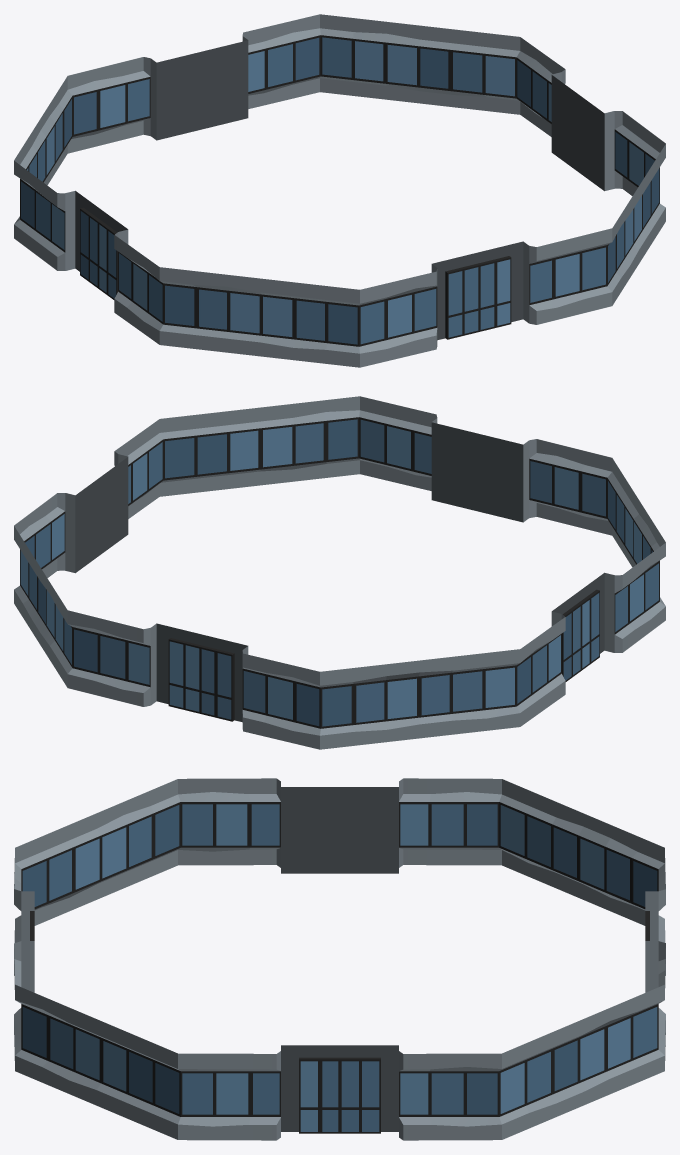
File: Large_Office_Octafon_Andar.glb
3 views of the same model, one above another, from view 1: azimuth 30°, elevation 25°; view 2: azimuth 150°, elevation 25°; view 3: azimuth 270°, elevation 25° (orthographic). The views are drawn at different scales.
Parts seen in each view (by area): view 1: SM_Bld_OfficeOctagon_Floor_01; view 2: SM_Bld_OfficeOctagon_Floor_01; view 3: SM_Bld_OfficeOctagon_Floor_01.
Part boxes in pixels (<box>): SM_Bld_OfficeOctagon_Floor_01: <box>14,14,665,367</box>; SM_Bld_OfficeOctagon_Floor_01: <box>14,396,665,749</box>; SM_Bld_OfficeOctagon_Floor_01: <box>14,778,665,1140</box>.
Size of the model in its own units: 20.46 by 3 by 20.46.
Materials: 1 (1 with a texture image).
